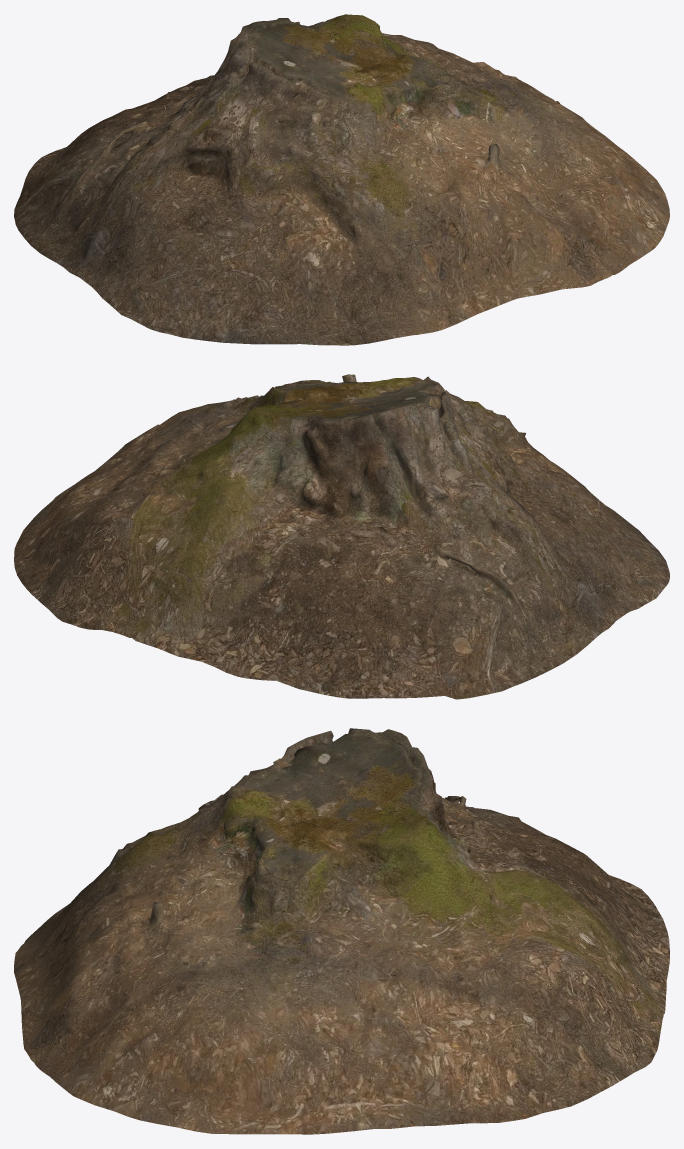
The model's file is tree_stump_02.glb.
The picture shows the model from 3 angles, top to bottom: view 1: azimuth 30°, elevation 25°; view 2: azimuth 150°, elevation 25°; view 3: azimuth 270°, elevation 25°; orthographic projection. The views are drawn at different scales.
Visible parts, largest first — view 1: tree_stump_02_lod0; view 2: tree_stump_02_lod0; view 3: tree_stump_02_lod0.
Part boxes in pixels (box(x1,y1,x2,y2)): tree_stump_02_lod0: box(14, 14, 669, 345); tree_stump_02_lod0: box(14, 374, 669, 699); tree_stump_02_lod0: box(14, 728, 669, 1134).
Size of what is drawn, in the model's own units: 1.52 by 0.5212 by 1.39.
Materials: 1 (1 with a texture image).
